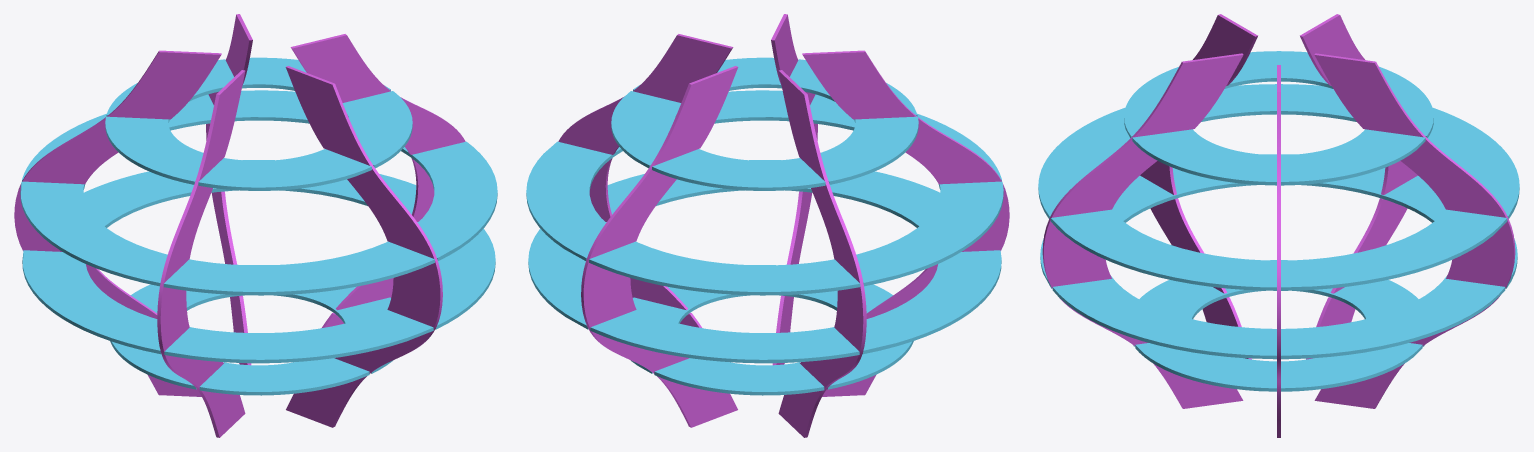
The picture shows the model from 3 angles, left to right: view 1: azimuth 30°, elevation 25°; view 2: azimuth 150°, elevation 25°; view 3: azimuth 270°, elevation 25°; orthographic projection.
Visible parts, largest first — view 1: ad8d09e5-67c0-42f9-a8c9-14a25ccf51f8, a8d4bf57-30ad-4592-b8df-6d849b32d953, c0f87eb6-8410-4c91-b3d4-218d8b25e757, bd049d84-f72f-4461-8387-68f1c22f580a, a7332cb5-e9c6-406e-9cd8-d190c75822e0, a61985b8-5655-488a-8ed1-b5492688bbbb, a5171dfd-5d15-4724-9c57-d580c0b24c88, bd5bc7b0-7c56-4023-aa26-1b572a292781, d5609b12-ed1f-4109-8c39-ef0de89d4f29; view 2: ad8d09e5-67c0-42f9-a8c9-14a25ccf51f8, a8d4bf57-30ad-4592-b8df-6d849b32d953, c0f87eb6-8410-4c91-b3d4-218d8b25e757, d5609b12-ed1f-4109-8c39-ef0de89d4f29, a5171dfd-5d15-4724-9c57-d580c0b24c88, a61985b8-5655-488a-8ed1-b5492688bbbb, a7332cb5-e9c6-406e-9cd8-d190c75822e0, bd5bc7b0-7c56-4023-aa26-1b572a292781, bd049d84-f72f-4461-8387-68f1c22f580a; view 3: ad8d09e5-67c0-42f9-a8c9-14a25ccf51f8, a8d4bf57-30ad-4592-b8df-6d849b32d953, c0f87eb6-8410-4c91-b3d4-218d8b25e757, d5609b12-ed1f-4109-8c39-ef0de89d4f29, bd049d84-f72f-4461-8387-68f1c22f580a, a61985b8-5655-488a-8ed1-b5492688bbbb, a7332cb5-e9c6-406e-9cd8-d190c75822e0, a5171dfd-5d15-4724-9c57-d580c0b24c88, bd5bc7b0-7c56-4023-aa26-1b572a292781.
Part boxes in pixels (box(x1,y1,x2,y2)): ad8d09e5-67c0-42f9-a8c9-14a25ccf51f8: box(20, 90, 497, 295); a8d4bf57-30ad-4592-b8df-6d849b32d953: box(22, 160, 495, 363); c0f87eb6-8410-4c91-b3d4-218d8b25e757: box(105, 57, 412, 190); bd049d84-f72f-4461-8387-68f1c22f580a: box(285, 66, 442, 427); a7332cb5-e9c6-406e-9cd8-d190c75822e0: box(14, 50, 221, 396); a61985b8-5655-488a-8ed1-b5492688bbbb: box(110, 265, 392, 395); a5171dfd-5d15-4724-9c57-d580c0b24c88: box(157, 70, 245, 437); bd5bc7b0-7c56-4023-aa26-1b572a292781: box(290, 34, 465, 328); d5609b12-ed1f-4109-8c39-ef0de89d4f29: box(206, 14, 252, 365); ad8d09e5-67c0-42f9-a8c9-14a25ccf51f8: box(526, 90, 1003, 295); a8d4bf57-30ad-4592-b8df-6d849b32d953: box(528, 160, 1001, 363); c0f87eb6-8410-4c91-b3d4-218d8b25e757: box(611, 57, 918, 190); d5609b12-ed1f-4109-8c39-ef0de89d4f29: box(581, 66, 738, 427); a5171dfd-5d15-4724-9c57-d580c0b24c88: box(802, 50, 1009, 396); a61985b8-5655-488a-8ed1-b5492688bbbb: box(631, 265, 913, 395); a7332cb5-e9c6-406e-9cd8-d190c75822e0: box(778, 70, 866, 437); bd5bc7b0-7c56-4023-aa26-1b572a292781: box(558, 34, 733, 328); bd049d84-f72f-4461-8387-68f1c22f580a: box(771, 14, 817, 365); ad8d09e5-67c0-42f9-a8c9-14a25ccf51f8: box(1038, 84, 1519, 290); a8d4bf57-30ad-4592-b8df-6d849b32d953: box(1040, 154, 1517, 359); c0f87eb6-8410-4c91-b3d4-218d8b25e757: box(1124, 51, 1433, 185); d5609b12-ed1f-4109-8c39-ef0de89d4f29: box(1314, 53, 1515, 408); bd049d84-f72f-4461-8387-68f1c22f580a: box(1042, 53, 1243, 408); a61985b8-5655-488a-8ed1-b5492688bbbb: box(1133, 260, 1424, 391); a7332cb5-e9c6-406e-9cd8-d190c75822e0: box(1300, 14, 1417, 359); a5171dfd-5d15-4724-9c57-d580c0b24c88: box(1140, 14, 1257, 359); bd5bc7b0-7c56-4023-aa26-1b572a292781: box(1277, 65, 1280, 437).
Bounding box in the file's own units: 38.39 × 37.83 × 30.
